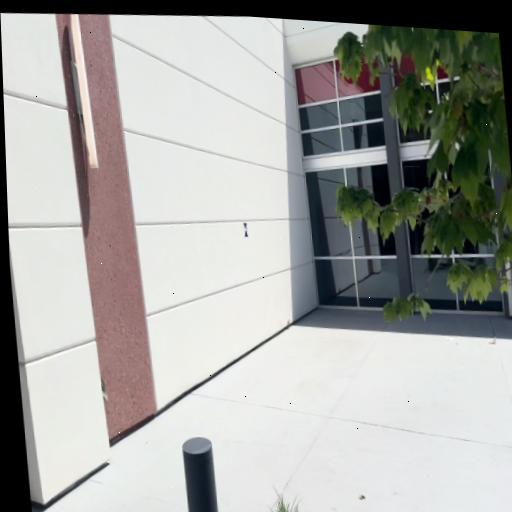target7: (243, 222, 249, 237)
